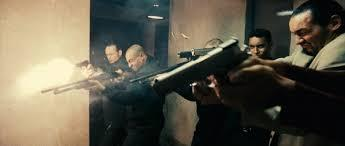handgun: (154, 35, 247, 98), (72, 60, 89, 70)
rifle: (37, 70, 120, 104)
